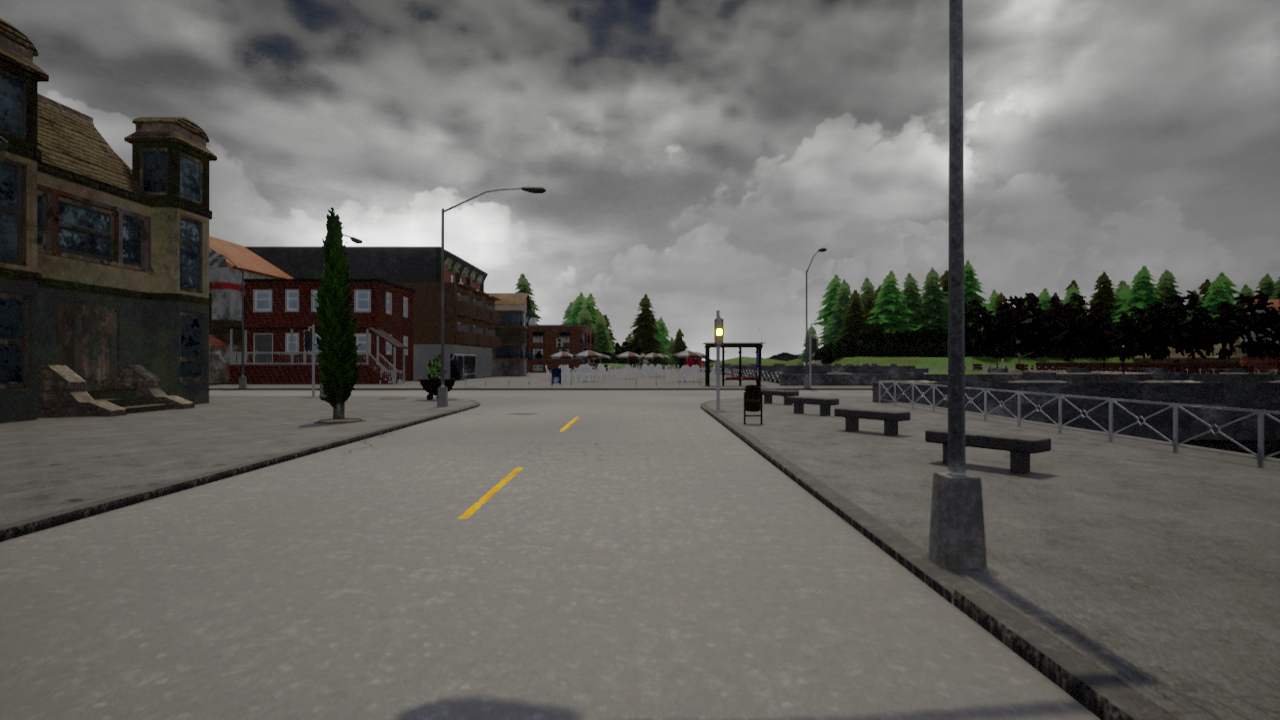yellow: (714, 319, 724, 346)
